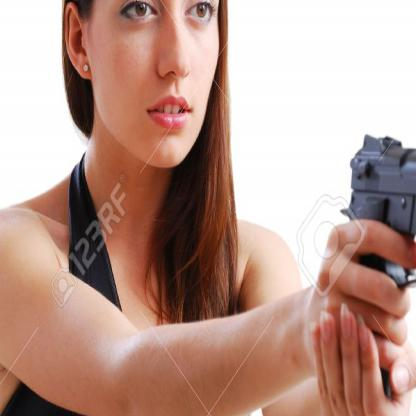gun: (328, 116, 416, 353)
